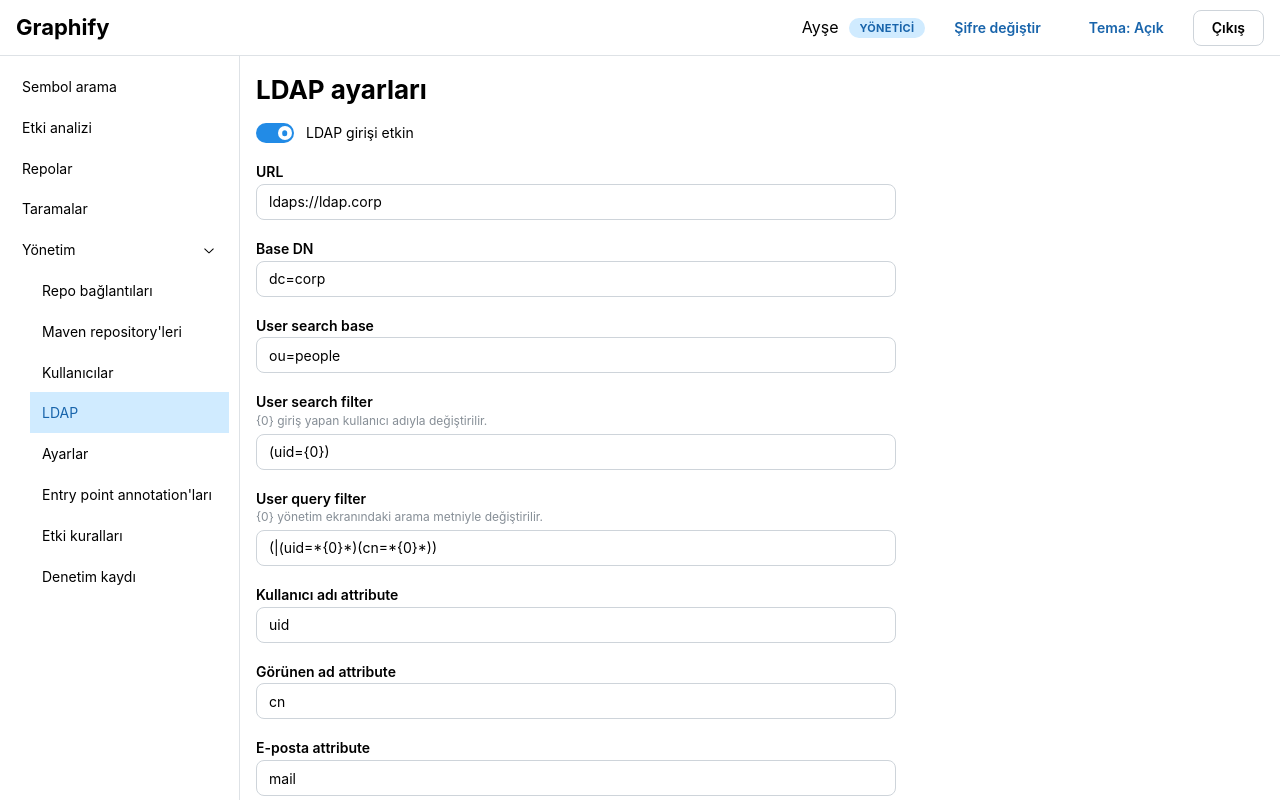
Test: LDAP settings › tests the form as typed without sending the stored password
Replace the text in the field labelled "User search base" with "ou=staff" at {"x": 576, "y": 356}, box [256,338,896,374]
(page scrolled)
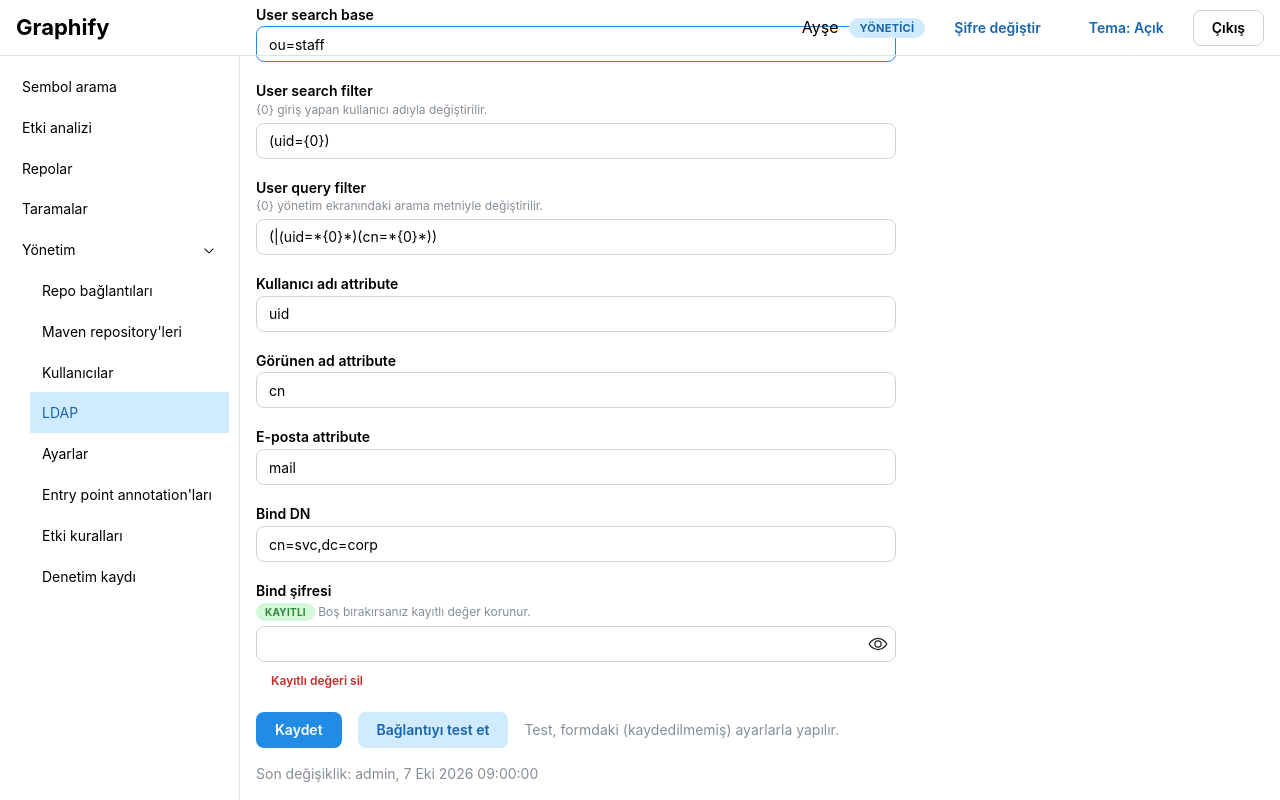
Click the button "Bağlantıyı test et" at {"x": 433, "y": 730}, box [358,712,508,748]
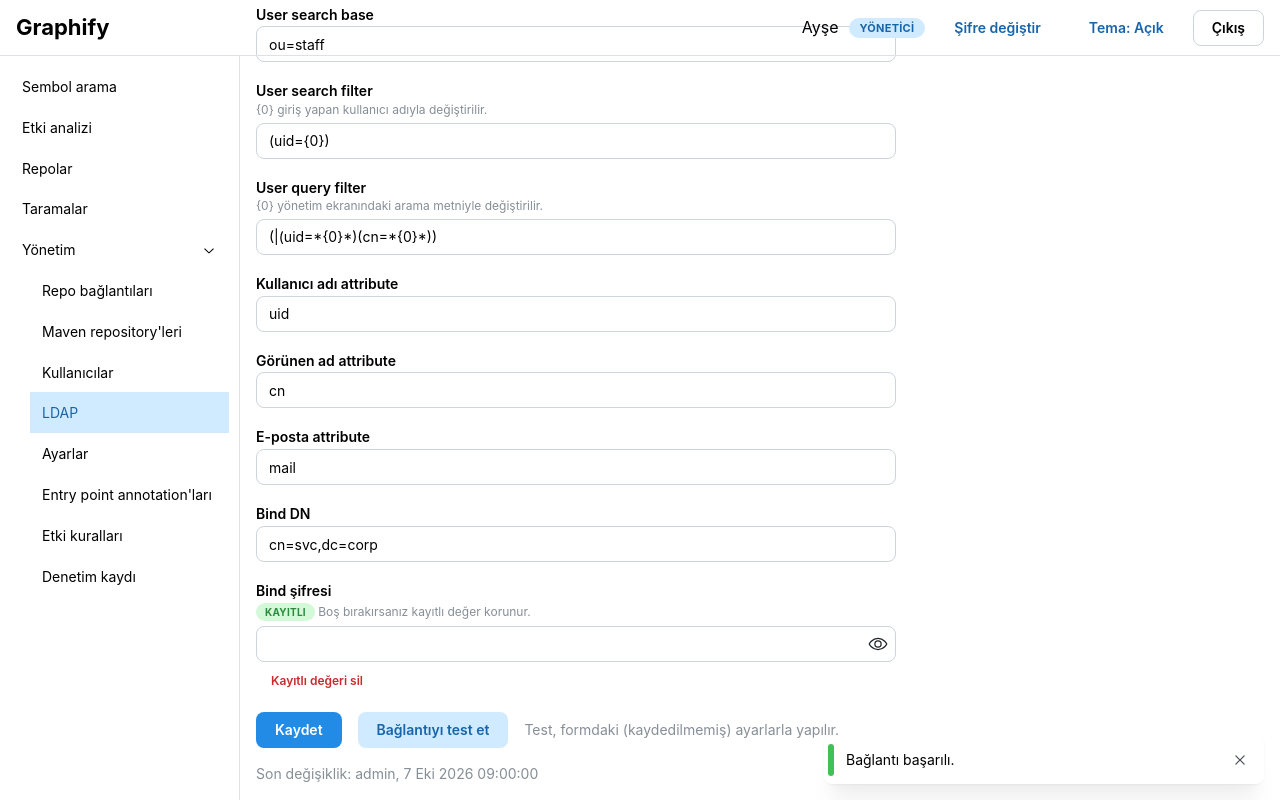
Check: the text "Bağlantı başarılı." is shown, box [846,751,954,768]
